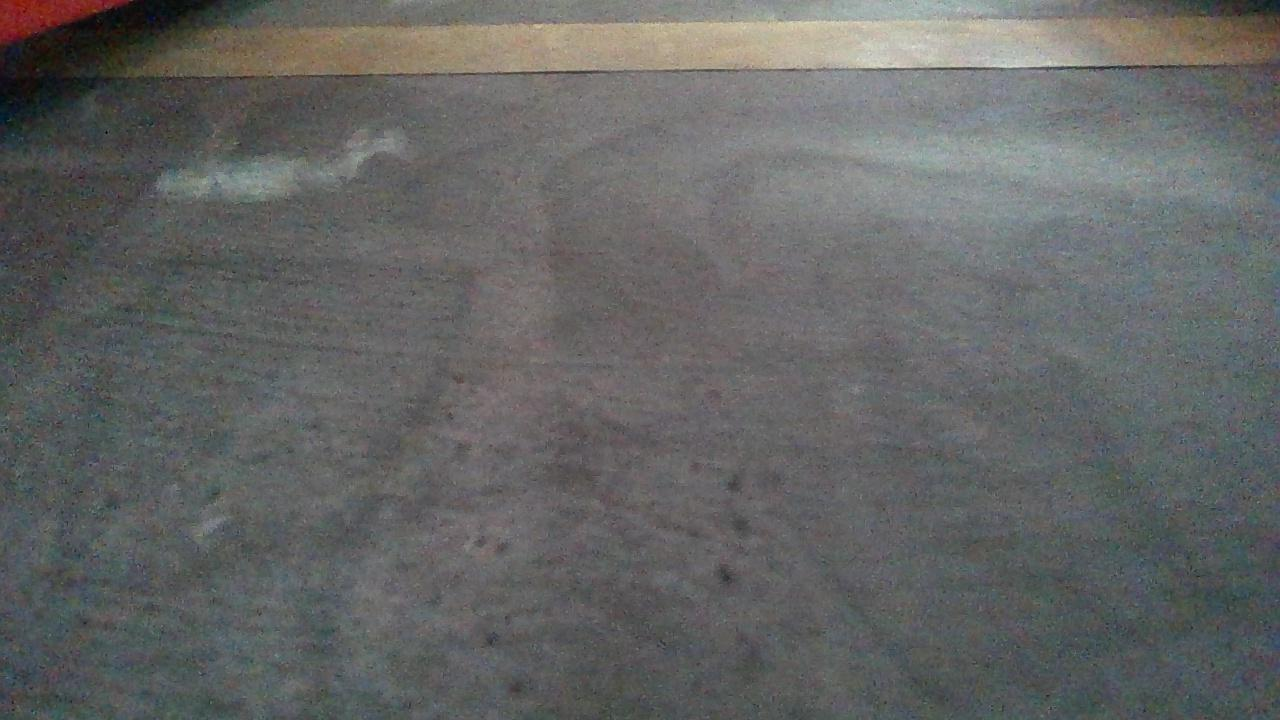yellow_line: (20, 11, 1279, 74)
